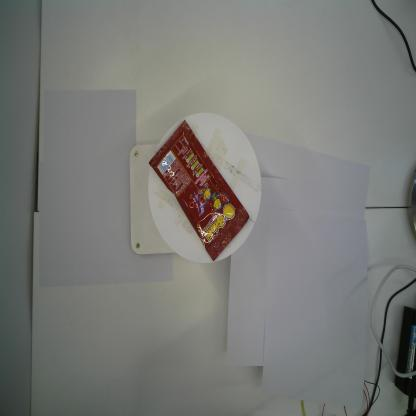Candy: (147, 118, 250, 262)
